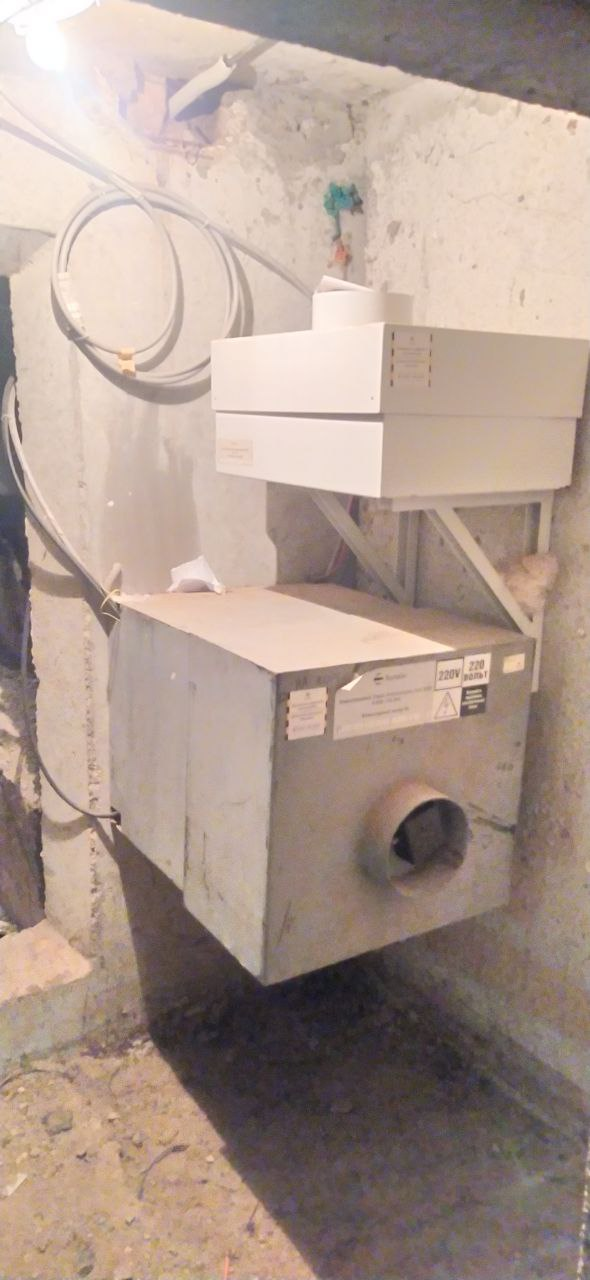shta-9: (105, 556, 542, 992)
shta-ps: (204, 272, 582, 505)
